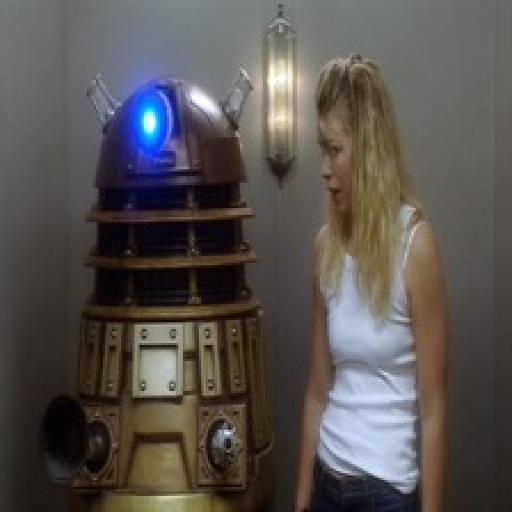dalek: (38, 73, 270, 512)
